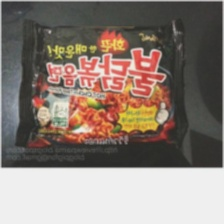snack: (11, 12, 195, 156)
